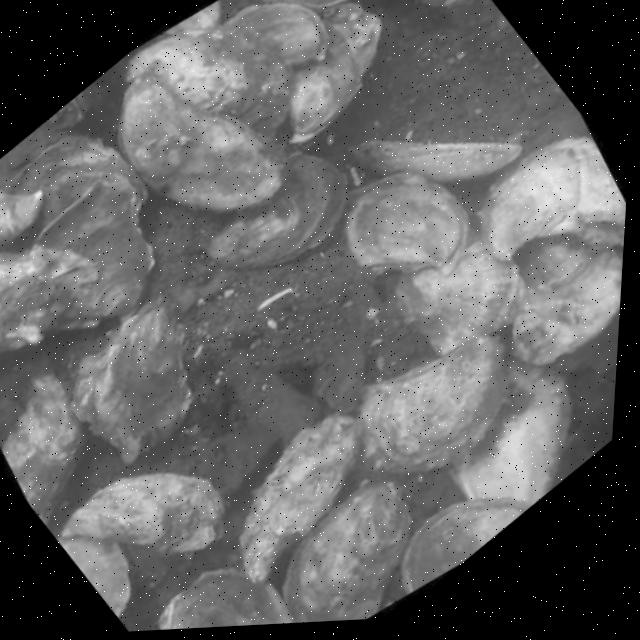Oyster-Closed: (336, 52, 534, 247)
Oyster-Indeterminate: (0, 101, 204, 350), (93, 34, 310, 260), (357, 191, 568, 400), (179, 111, 394, 312), (59, 408, 268, 609), (333, 292, 541, 492), (416, 339, 618, 541), (48, 279, 250, 477), (451, 112, 631, 320), (312, 137, 504, 330), (106, 0, 308, 183), (255, 466, 452, 625), (372, 437, 556, 605), (202, 402, 381, 571), (0, 189, 133, 416), (0, 343, 144, 530), (473, 207, 626, 377), (249, 0, 422, 149), (128, 528, 332, 631), (47, 496, 165, 622), (200, 0, 340, 103), (233, 0, 421, 67), (0, 150, 60, 316), (581, 279, 622, 421), (157, 0, 237, 63)
